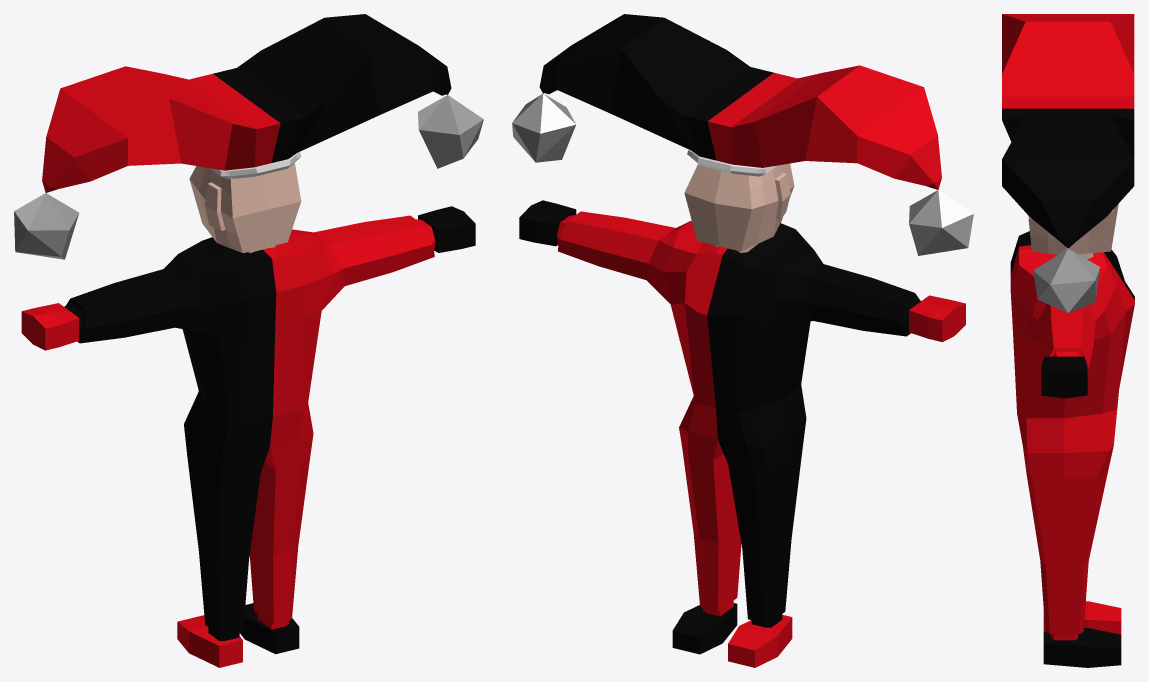
The model's file is character.fbx.
The picture shows the model from 3 angles, left to right: view 1: azimuth 30°, elevation 25°; view 2: azimuth 150°, elevation 25°; view 3: azimuth 270°, elevation 25°; orthographic projection. The views are drawn at different scales.
Visible parts, largest first — view 1: Icosphere; view 2: Icosphere; view 3: Icosphere.
Part boxes in pixels (x1=…): Icosphere: x1=14, y1=14, x2=483, y2=667; Icosphere: x1=512, y1=14, x2=973, y2=667; Icosphere: x1=1002, y1=14, x2=1134, y2=667.
Size of the model in its own units: 789 by 962 by 201.
